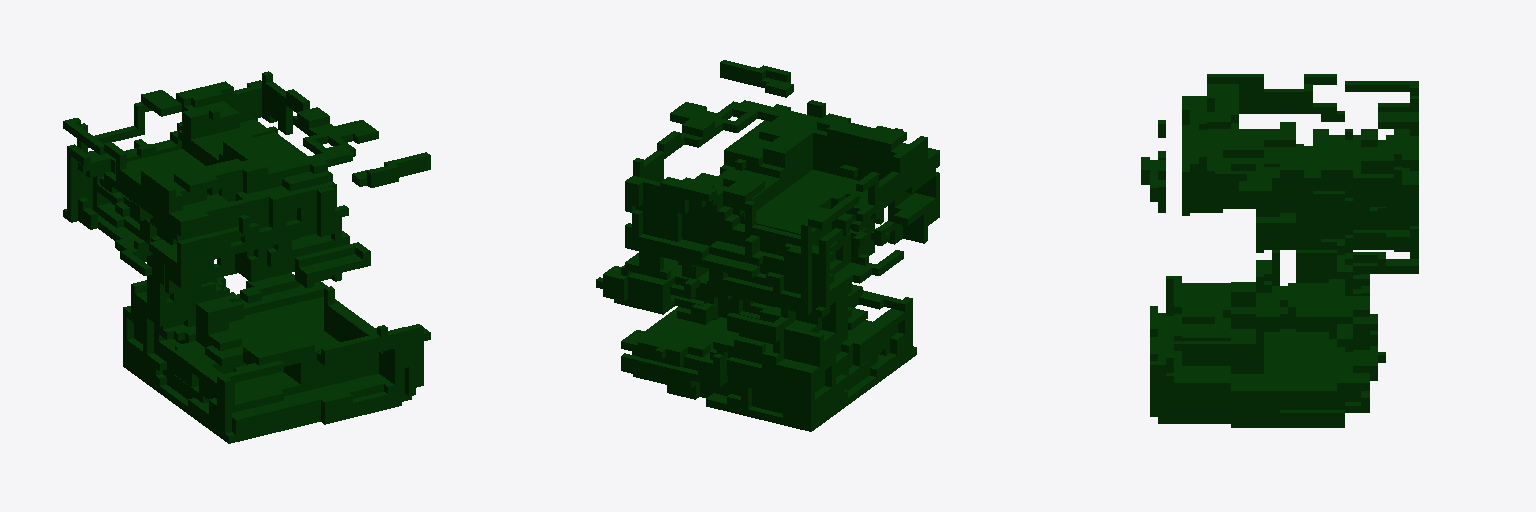
3 renders of one model, left to right at view 1: azimuth 30°, elevation 25°; view 2: azimuth 150°, elevation 25°; view 3: azimuth 270°, elevation 25°, orthographic.
Parts seen in each view (by area): view 1: object 1; view 2: object 1; view 3: object 1.
Part boxes in pixels (left/top/right/bottom): object 1: left=63, top=71, right=430, bottom=443; object 1: left=596, top=60, right=939, bottom=431; object 1: left=1141, top=74, right=1418, bottom=427.
Size of the model in its own units: 3.5 by 3.3 by 3.4.
1 materials, 1 textured.